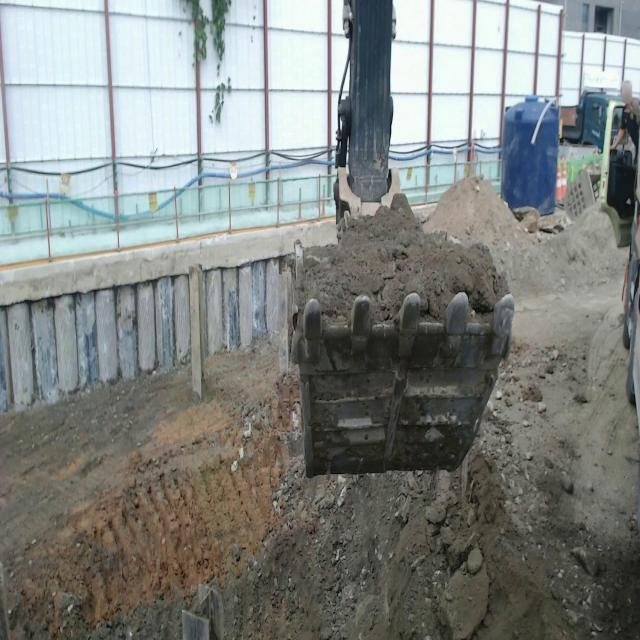white-sand: (0, 178, 640, 639), (300, 196, 509, 327)
